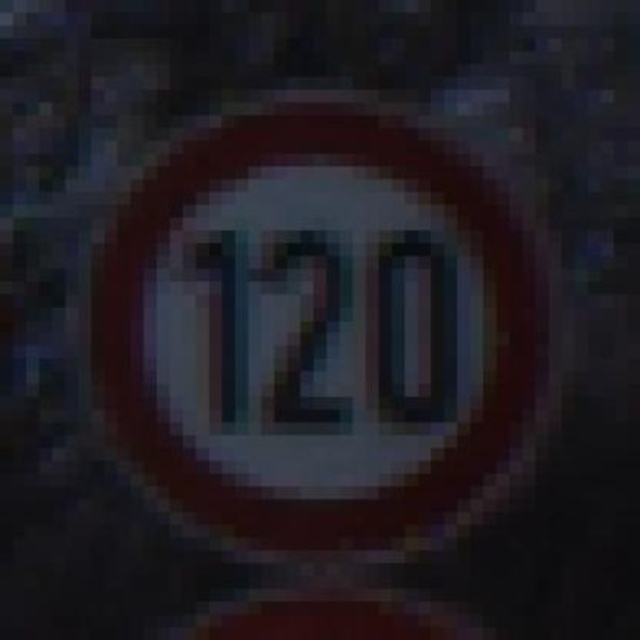Tốc độ tối đa cho phép 120km/h: (97, 105, 546, 555)
